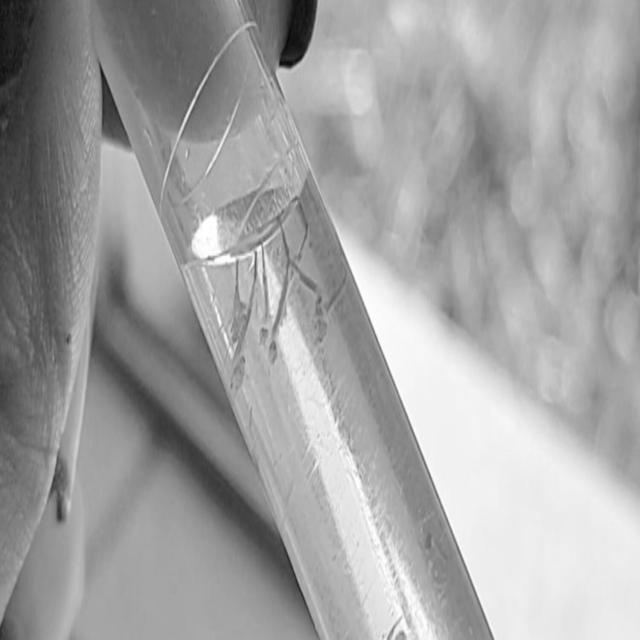larvas: (227, 250, 263, 401), (292, 266, 325, 338), (271, 240, 288, 360), (231, 257, 248, 346), (324, 261, 346, 320), (260, 244, 270, 346)
